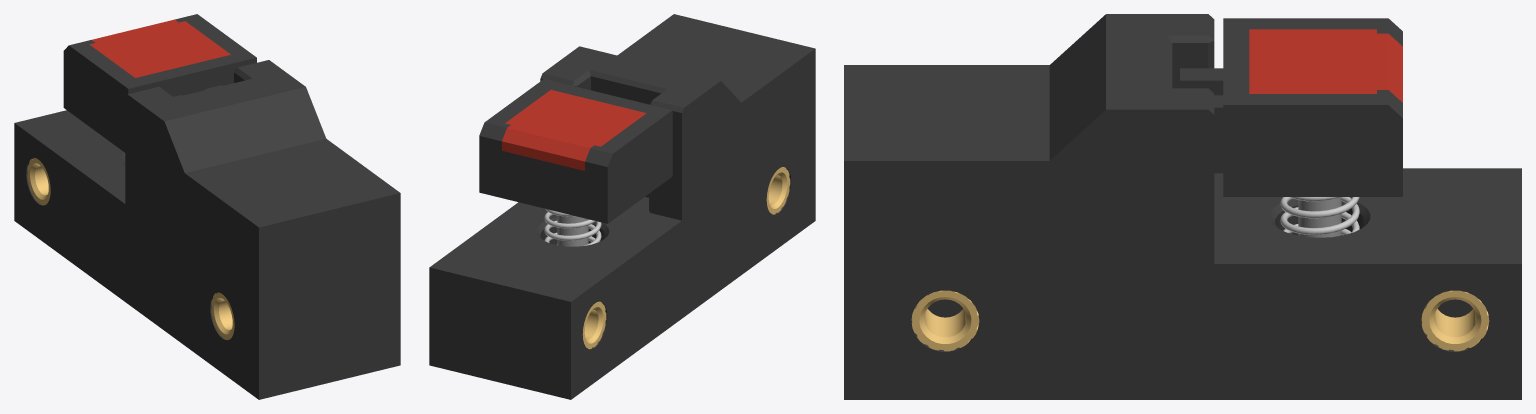
The model's file is Blocker - Cup.gltf.
3 renders of one model, left to right at view 1: azimuth 30°, elevation 25°; view 2: azimuth 150°, elevation 25°; view 3: azimuth 270°, elevation 25°, orthographic. The views are drawn at different scales.
Parts seen in each view (by area): view 1: Block, Silicone Cup, Silicone, Heat Insert (3), Heat Insert (2); view 2: Block, Silicone Cup, Silicone, Spring, Heat Insert (3), Heat Insert (2), M3x16 SHCS; view 3: Block, Silicone Cup, Silicone, Heat Insert (1), Heat Insert (4), Spring, M3x16 SHCS.
Boxes of the visible parts, left/top/right/bottom form: Block: left=14, top=60, right=400, bottom=399; Silicone Cup: left=63, top=14, right=256, bottom=152; Silicone: left=89, top=19, right=230, bottom=77; Heat Insert (3): left=211, top=292, right=234, bottom=339; Heat Insert (2): left=27, top=158, right=50, bottom=205; Block: left=429, top=14, right=815, bottom=399; Silicone Cup: left=479, top=79, right=672, bottom=223; Silicone: left=502, top=90, right=646, bottom=170; Spring: left=544, top=208, right=601, bottom=245; Heat Insert (3): left=766, top=167, right=790, bottom=214; Heat Insert (2): left=582, top=301, right=606, bottom=349; M3x16 SHCS: left=557, top=215, right=588, bottom=246; Block: left=844, top=14, right=1521, bottom=399; Silicone Cup: left=1180, top=18, right=1402, bottom=196; Silicone: left=1249, top=29, right=1402, bottom=102; Heat Insert (1): left=911, top=290, right=979, bottom=351; Heat Insert (4): left=1421, top=290, right=1489, bottom=351; Spring: left=1280, top=197, right=1359, bottom=235; M3x16 SHCS: left=1298, top=197, right=1341, bottom=237.
Size of the model in its own units: 0.0156 by 0.0221 by 0.0468.
